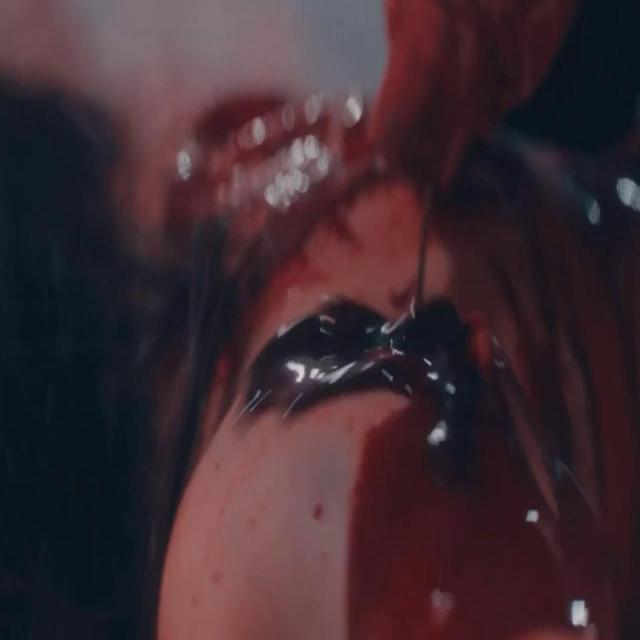flood: (243, 291, 488, 497)
